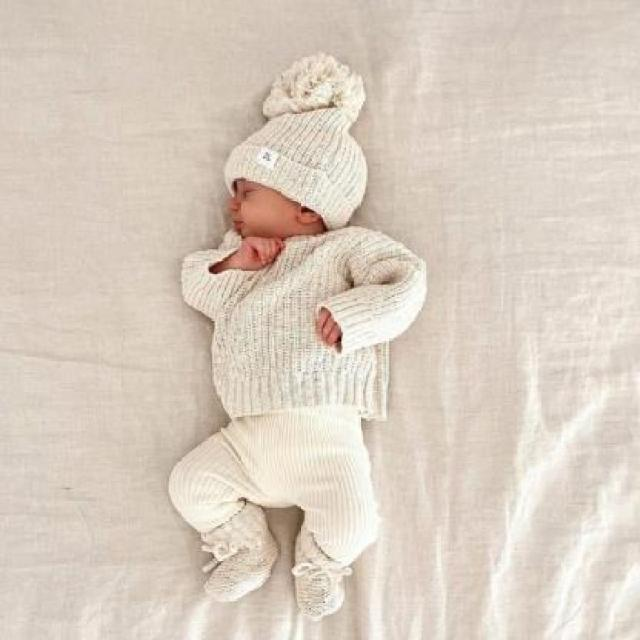baby: (165, 49, 428, 617)
